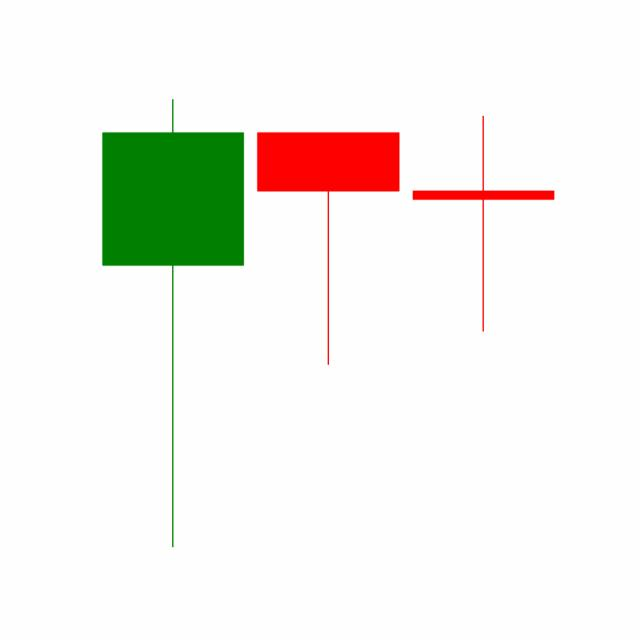Spinning Top: (405, 112, 561, 334)
